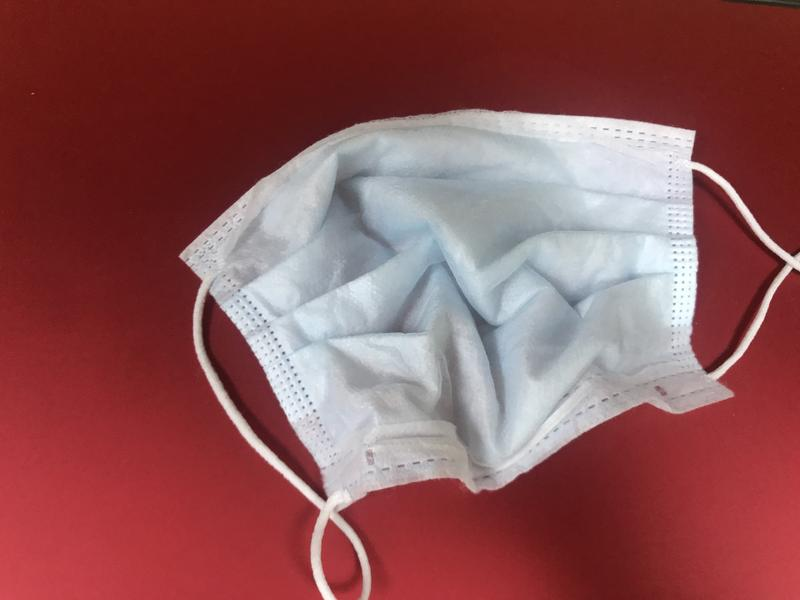medical_mask: (178, 109, 800, 599)
